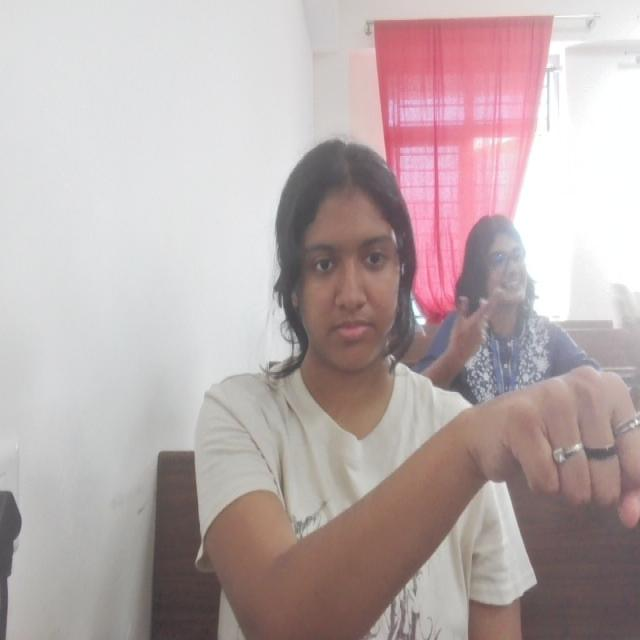yes: (510, 363, 640, 530)
